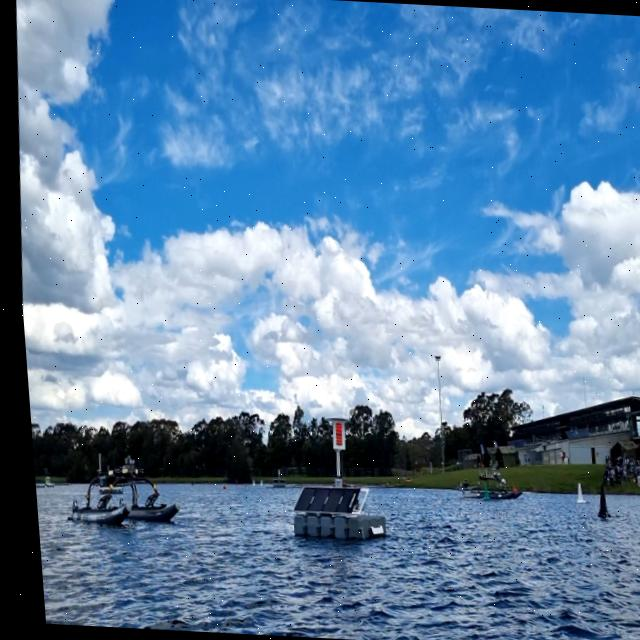led: (326, 421, 339, 449)
